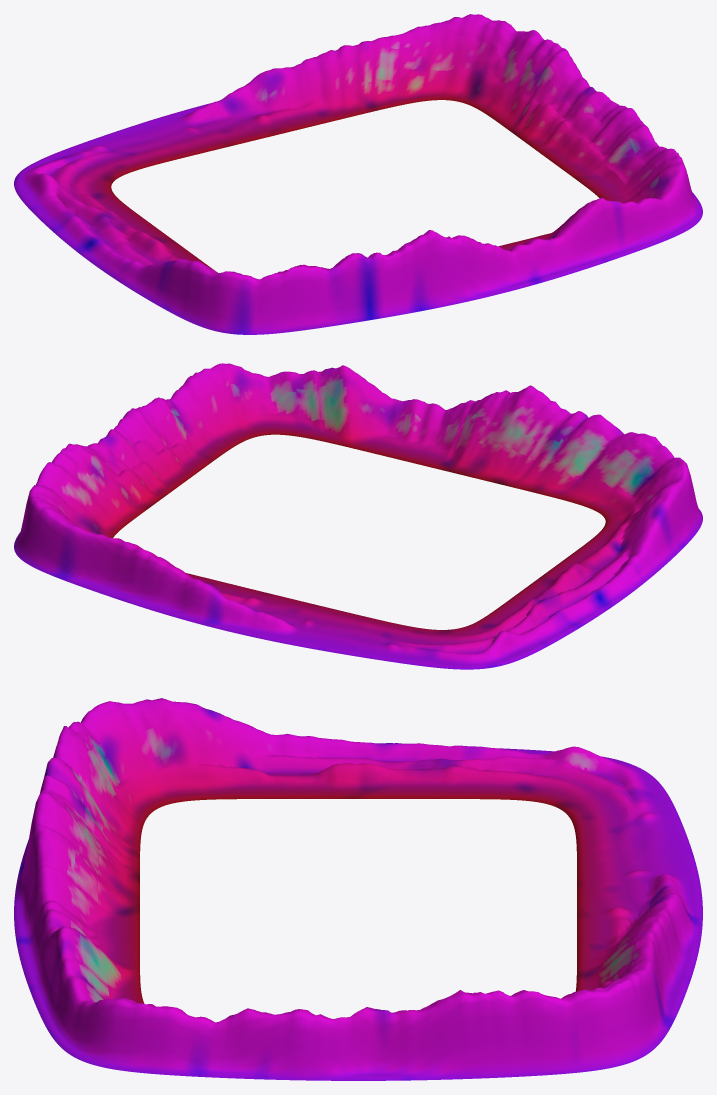
Rendered from kulisse_koeln.glb.
3 views of the same model, one above another, from view 1: azimuth 30°, elevation 25°; view 2: azimuth 150°, elevation 25°; view 3: azimuth 270°, elevation 25° (orthographic). The views are drawn at different scales.
Parts seen in each view (by area): view 1: Staffel_Fern, Staffel_Nah, Staffel_Mitte; view 2: Staffel_Fern, Staffel_Nah, Staffel_Mitte; view 3: Staffel_Fern, Staffel_Nah, Staffel_Mitte.
Boxes of the visible parts, bbox=[...] form: Staffel_Fern: bbox=[14, 14, 702, 334]; Staffel_Nah: bbox=[68, 67, 637, 272]; Staffel_Mitte: bbox=[50, 35, 660, 266]; Staffel_Fern: bbox=[14, 363, 702, 669]; Staffel_Nah: bbox=[79, 410, 636, 644]; Staffel_Mitte: bbox=[58, 378, 661, 653]; Staffel_Fern: bbox=[14, 698, 702, 1080]; Staffel_Nah: bbox=[95, 763, 637, 1003]; Staffel_Mitte: bbox=[67, 723, 653, 1000].
Size of the model in its own units: 2078 by 256 by 1805.
